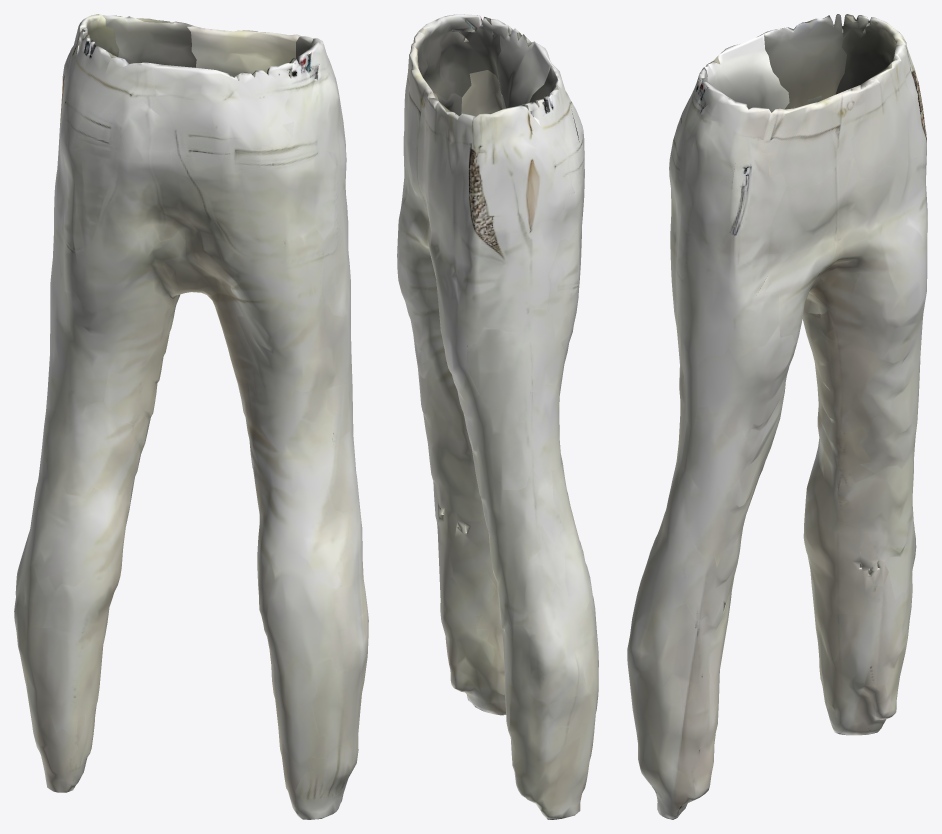
File: pant8.glb
3 renders of one model, left to right at view 1: azimuth 30°, elevation 25°; view 2: azimuth 150°, elevation 25°; view 3: azimuth 270°, elevation 25°, orthographic. The views are drawn at different scales.
Bounding box in the file's own units: 0.3638 × 1 × 0.3724.
Materials: 1 (1 with a texture image).
